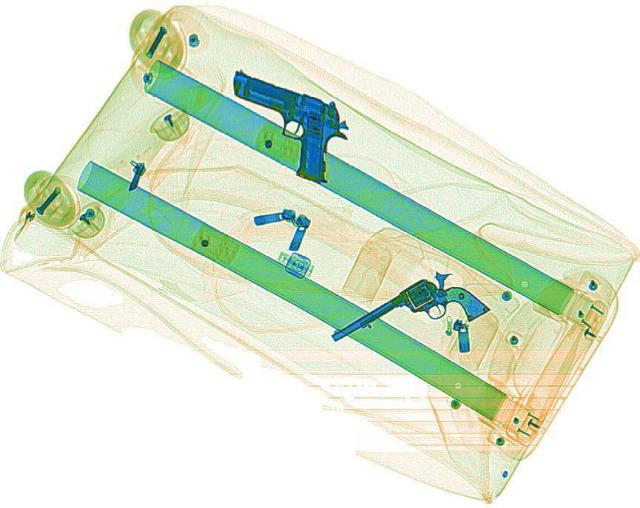Gun: (192, 70, 366, 183), (324, 264, 490, 375)
